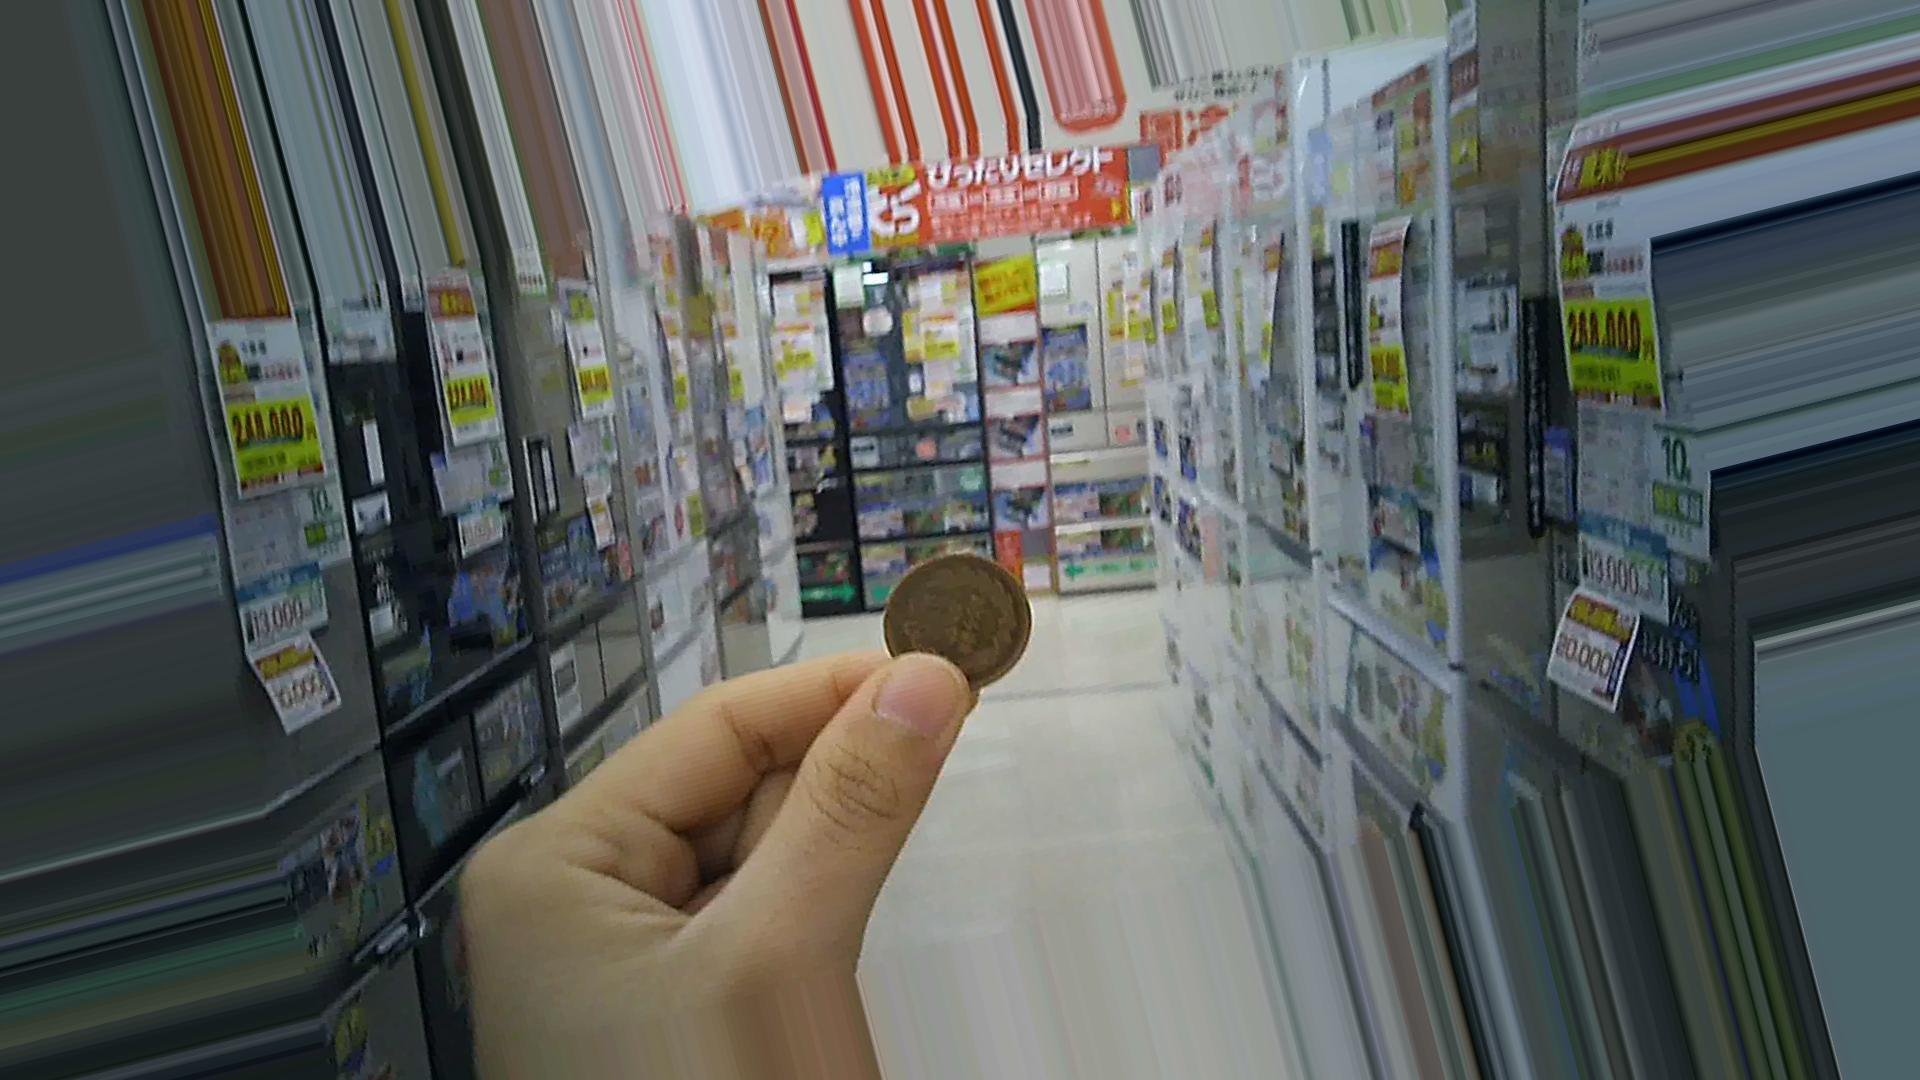10 Yen: (880, 547, 1033, 694)
